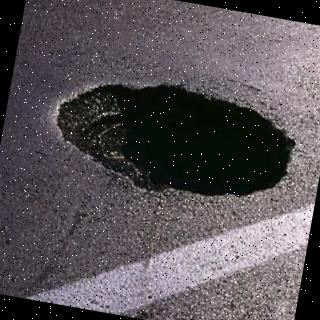pothole: (56, 85, 295, 197)
